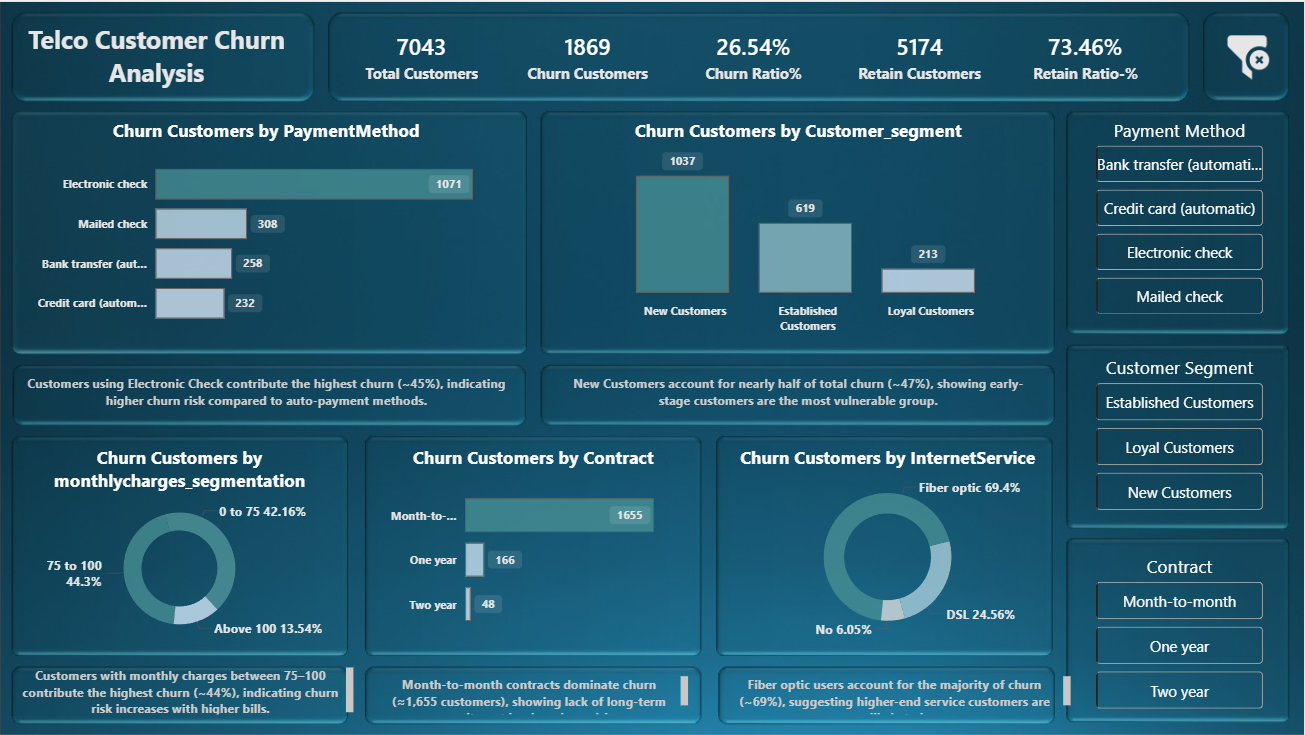

This screenshot's page, from the dashboard's own definition file:
{"tool":"powerbi","page":{"name":"Telco Customer Churn","canvas":[1400,800],"ordinal":0},"visuals":[{"type":"cardVisual","fields":{"Data":["_measures.Total Customers","_measures.Churn Customers","_measures.Churn Ratio%","_measures.Retain Customers","_measures.Retain Ratio-%"]},"box":[363.3,21.4,892.8,83.1],"z":0},{"type":"textbox","box":[0,21.4,337.8,83.1],"z":1000},{"type":"columnChart","fields":{"Category":["telcochustomerchurn_view.Customer_segment"],"Y":["_measures.Churn Customers"]},"box":[604.6,128.7,505.4,238.6],"z":2000},{"type":"clusteredBarChart","fields":{"Category":["telcochustomerchurn_view.PaymentMethod"],"Y":["_measures.Churn Customers"]},"box":[24.1,128.7,525.5,238.6],"z":3000},{"type":"textbox","box":[24.1,399.5,525.5,53.6],"z":4000},{"type":"textbox","box":[595.2,399.5,524.1,53.6],"z":5000},{"type":"donutChart","fields":{"Category":["telcochustomerchurn_view.monthlycharges_segmentation"],"Y":["_measures.Churn Customers"]},"box":[24.1,479.9,339.1,214.5],"z":6000},{"type":"textbox","box":[12.1,713.1,372.7,60.3],"z":7000},{"type":"clusteredBarChart","fields":{"Category":["telcochustomerchurn_view.Contract"],"Y":["_measures.Churn Customers"]},"box":[402.1,479.9,341.8,214.5],"z":8000},{"type":"textbox","box":[402.1,722.5,341.8,50.9],"z":9000},{"type":"donutChart","fields":{"Category":["telcochustomerchurn_view.InternetService"],"Y":["_measures.Churn Customers"]},"box":[786.9,479.9,332.4,214.5],"z":10000},{"type":"textbox","box":[774.8,722.5,361.9,50.9],"z":11000},{"type":"advancedSlicerVisual","title":"Payment Method","fields":{"Values":["telcochustomerchurn_view.PaymentMethod"]},"box":[1171.6,128.7,189,217.2],"z":12000},{"type":"advancedSlicerVisual","title":"Customer Segment","fields":{"Values":["telcochustomerchurn_view.Customer_segment"]},"box":[1171.6,383.4,189,172.9],"z":13000},{"type":"advancedSlicerVisual","title":"Contract","fields":{"Values":["telcochustomerchurn_view.Contract"]},"box":[1171.6,596.5,189,172.9],"z":14000},{"type":"image","box":[1286.9,32.2,103.2,63],"z":14001}]}

Visuals, with their boxes in screenshot pixels (x1, y1, x2, y2), scaled from the page's 1400x800 canvas onto the 1305x735 screenshot:
cardVisual - _measures.Total Customers x _measures.Churn Customers: <region>339, 20, 1171, 96</region>
textbox: <region>0, 20, 315, 96</region>
columnChart - telcochustomerchurn_view.Customer_segment x _measures.Churn Customers: <region>564, 118, 1035, 337</region>
clusteredBarChart - telcochustomerchurn_view.PaymentMethod x _measures.Churn Customers: <region>22, 118, 512, 337</region>
textbox: <region>22, 367, 512, 416</region>
textbox: <region>555, 367, 1043, 416</region>
donutChart - telcochustomerchurn_view.monthlycharges_segmentation x _measures.Churn Customers: <region>22, 441, 339, 638</region>
textbox: <region>11, 655, 359, 711</region>
clusteredBarChart - telcochustomerchurn_view.Contract x _measures.Churn Customers: <region>375, 441, 693, 638</region>
textbox: <region>375, 664, 693, 711</region>
donutChart - telcochustomerchurn_view.InternetService x _measures.Churn Customers: <region>734, 441, 1043, 638</region>
textbox: <region>722, 664, 1060, 711</region>
"Payment Method" advancedSlicerVisual: <region>1092, 118, 1268, 318</region>
"Customer Segment" advancedSlicerVisual: <region>1092, 352, 1268, 511</region>
"Contract" advancedSlicerVisual: <region>1092, 548, 1268, 707</region>
image: <region>1200, 30, 1296, 87</region>
